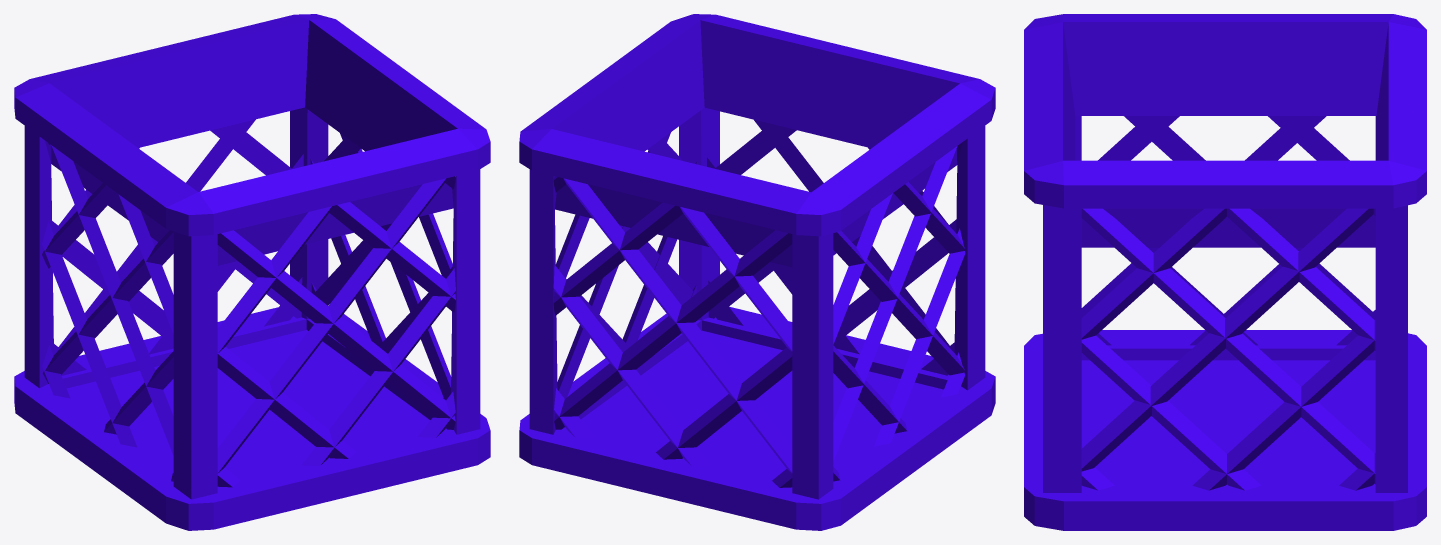
The model's file is mesh_MilkCrate_v2.fbx.
3 renders of one model, left to right at view 1: azimuth 30°, elevation 25°; view 2: azimuth 150°, elevation 25°; view 3: azimuth 270°, elevation 25°, orthographic. The views are drawn at different scales.
Visible parts, largest first — view 1: mesh_MilkCrate_v2_0; view 2: mesh_MilkCrate_v2_0; view 3: mesh_MilkCrate_v2_0.
Boxes of the visible parts, x1,y1,x2,y2 form: mesh_MilkCrate_v2_0: [14, 14, 490, 530]; mesh_MilkCrate_v2_0: [519, 14, 995, 530]; mesh_MilkCrate_v2_0: [1024, 14, 1426, 530].
Bounding box in the file's own units: 31.15 × 30.08 × 30.97.
